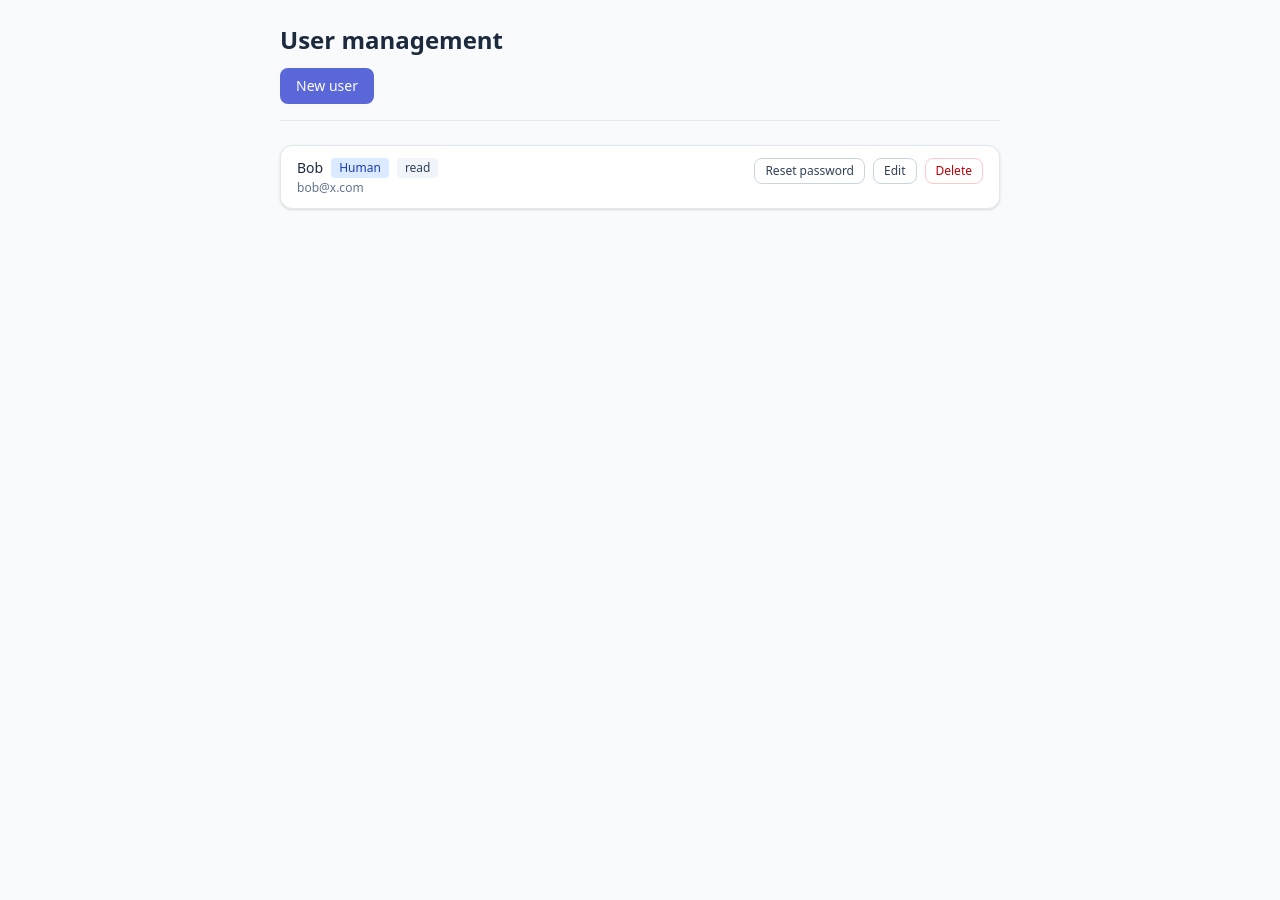
Scenario: UserManagement create flow › offers a human user without multi_user, once a human exists
This screenshot has width=1280, height=900.
Expected: the text "Bob" is shown, [297,158,323,178]
Click the button "New user" at (327, 86), box [280,68,374,104]
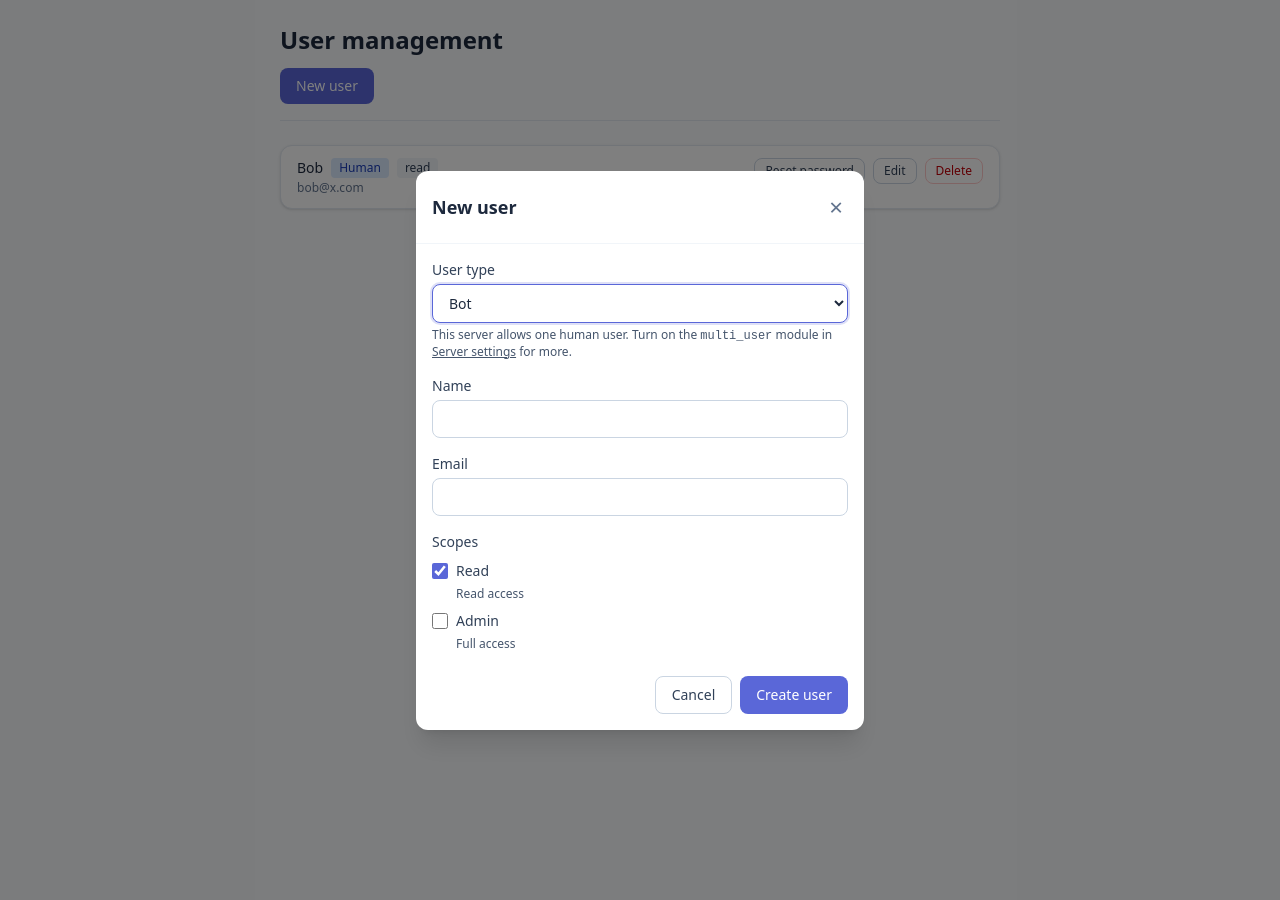
Expected: the dropdown labelled "User type" shows "Bot", [432,284,848,322]
Expected: the text "This server allows one human user" is shown once, [432,326,848,360]
